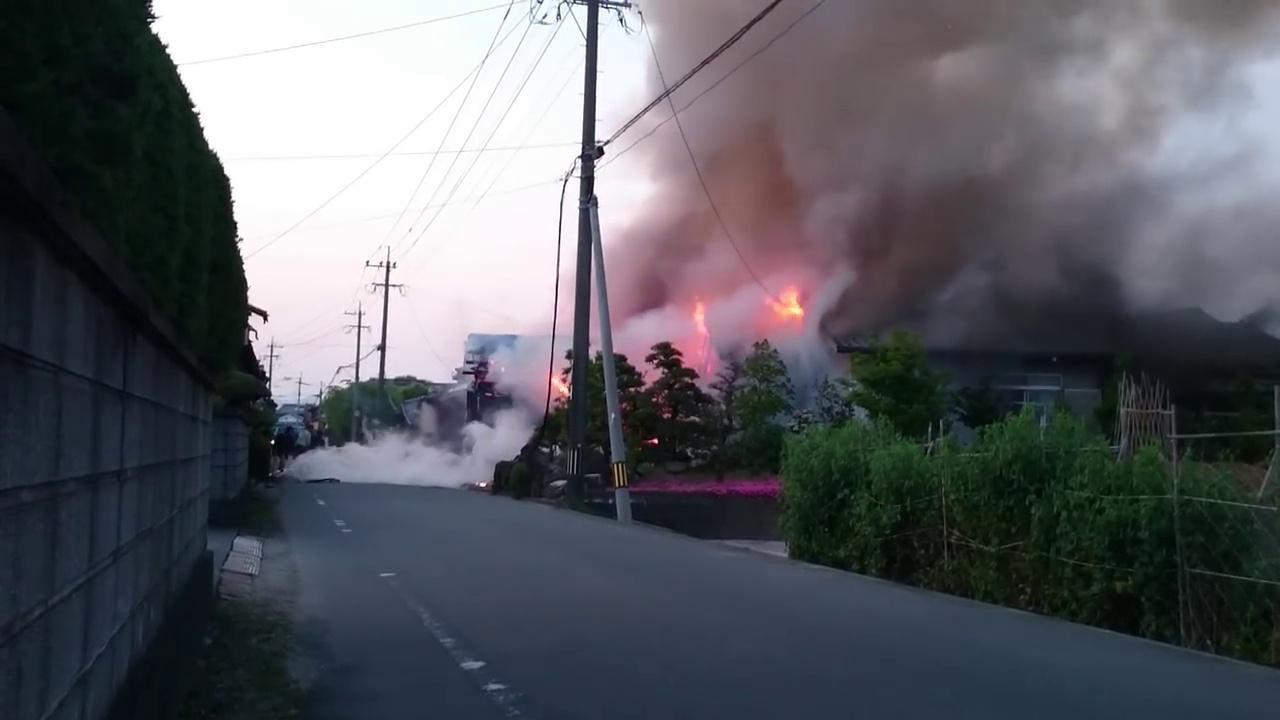Fire: (773, 288, 803, 314), (547, 376, 573, 396), (694, 294, 709, 319)
